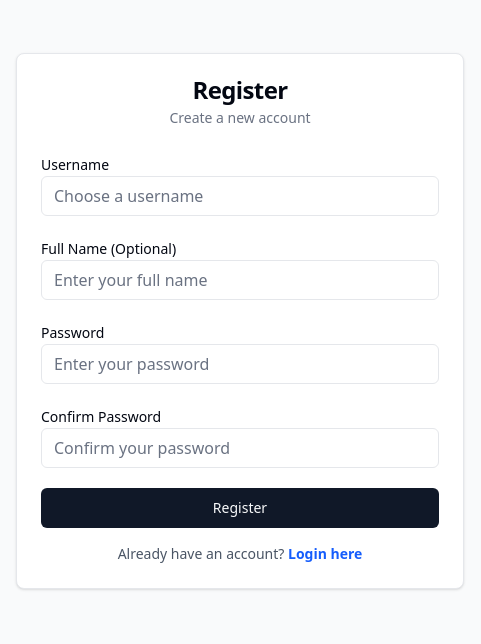
Scenario: RegisterForm › shows error if passwords do not match
The image size is (481, 644).
Step 1. Type "john" into the field labelled "Username" → x=240, y=196, box [41,176,439,216]
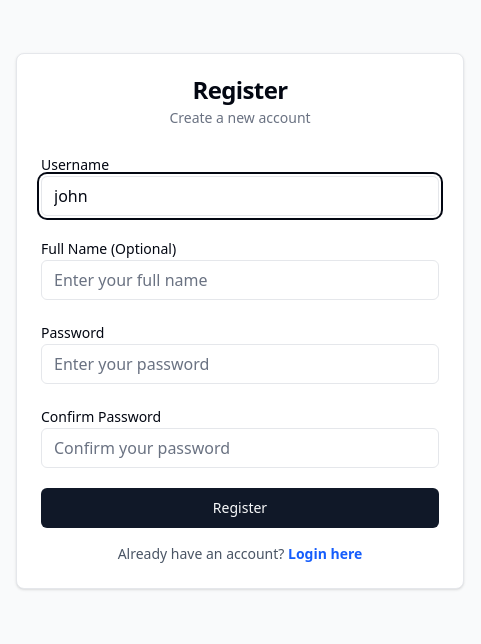
Step 2. Type "123" into the password field labelled "Password" → x=240, y=364, box [41,344,439,384]
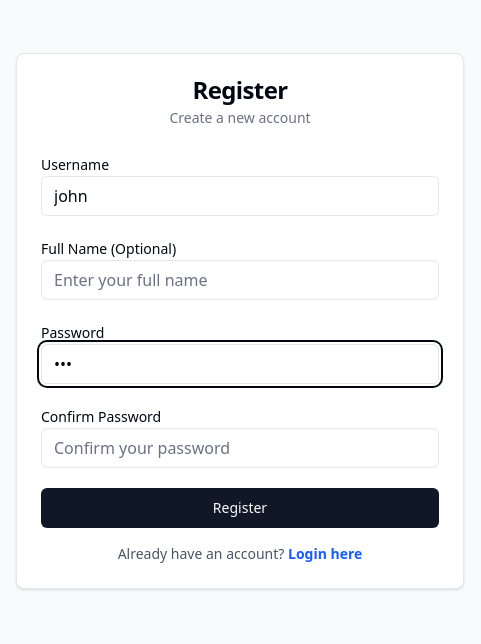
Step 3. Type "456" into the password field labelled "Confirm Password" → x=240, y=448, box [41,428,439,468]
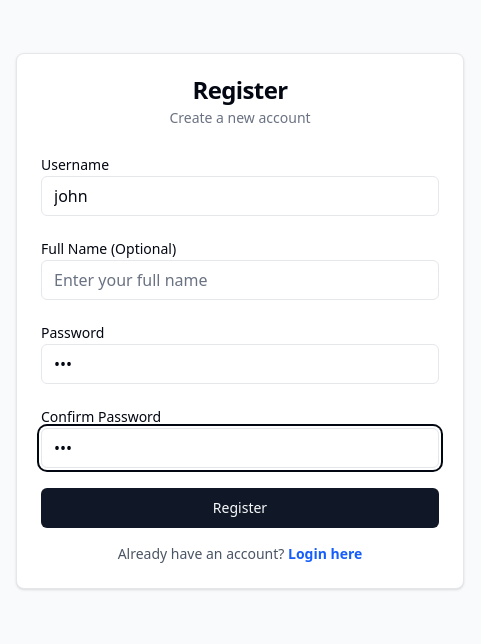
Step 4. Click the button "Register" → x=240, y=508, box [41,488,439,528]
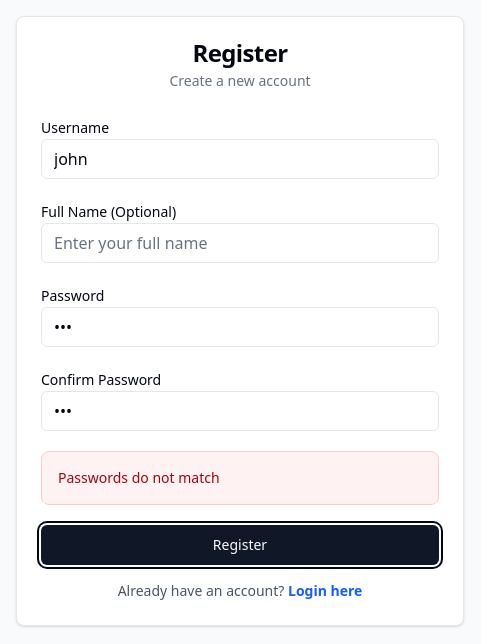
Expected: the text "Passwords do not match" is shown, [58,468,220,487]
